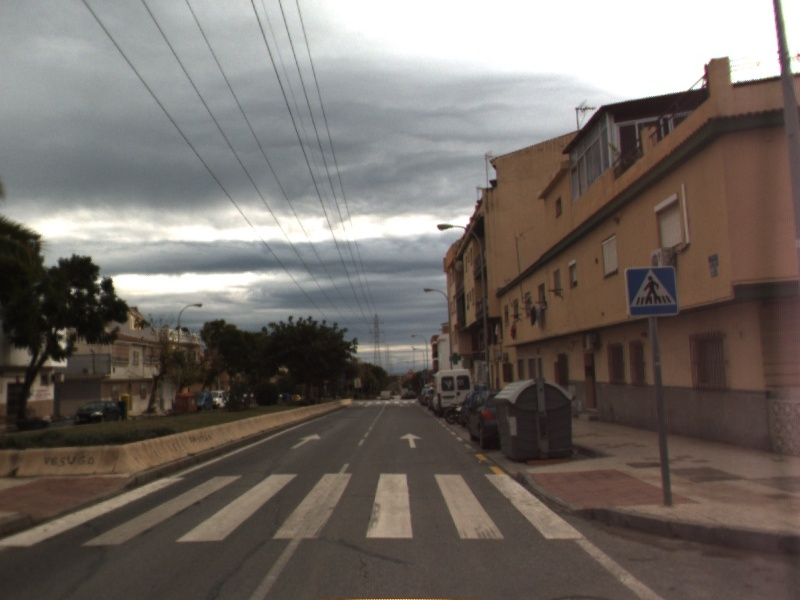STRAIGHT: (288, 431, 324, 451), (398, 431, 424, 451)
